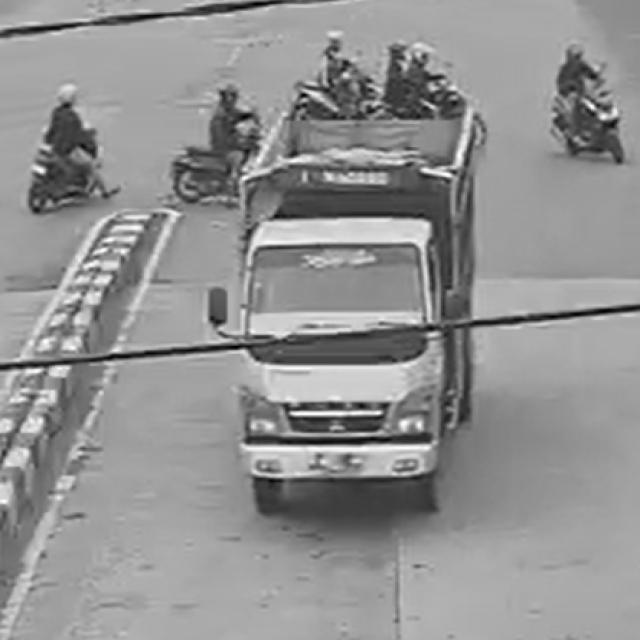Truck: (213, 92, 514, 529)
